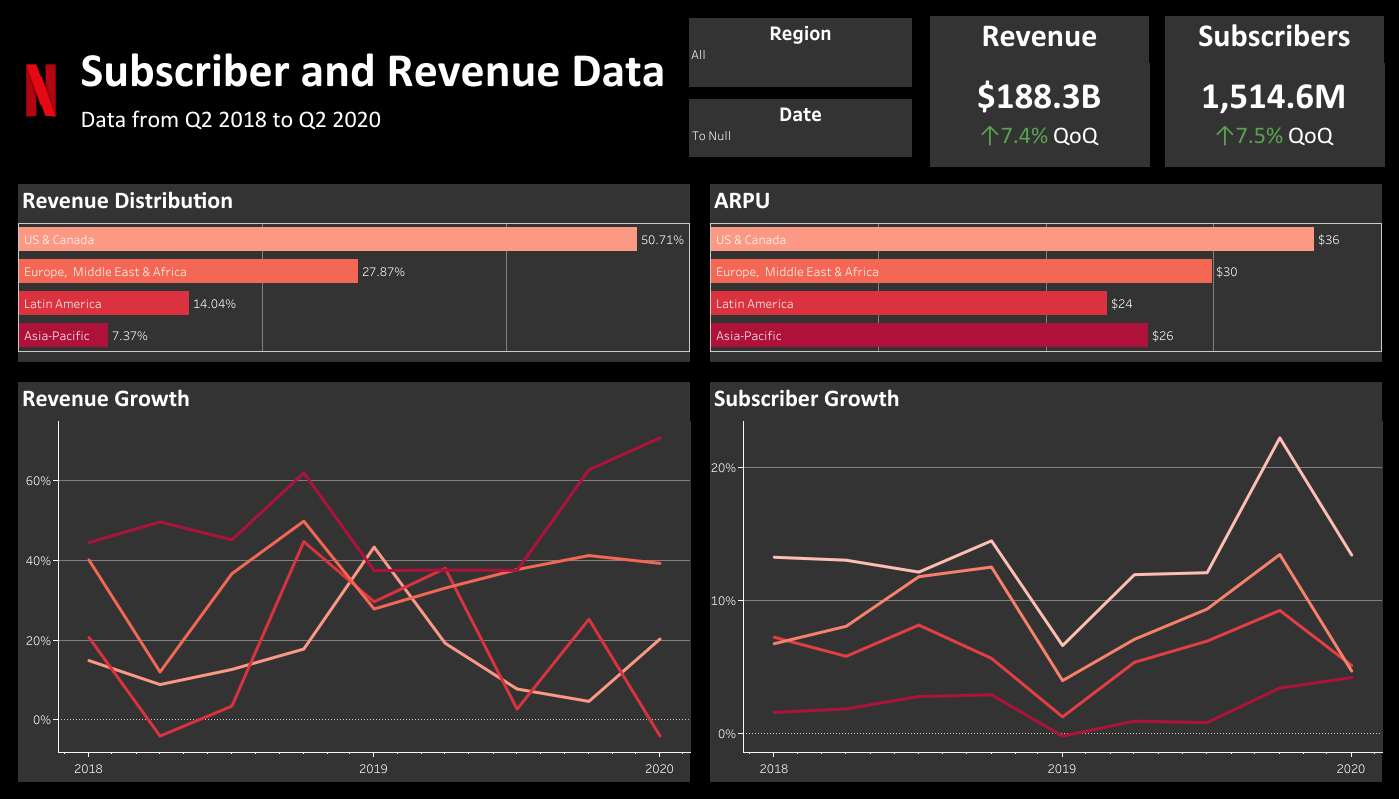

The dashboard page shown, as its layout file describes it:
{"tool":"tableau","page":{"name":"Dashboard","canvas":[1400,800],"ordinal":0},"visuals":[{"type":"image","param":"Image/Netflix_Symbol_RGB.png","box":[8,8,66,166]},{"type":"text","box":[74,8,605,166]},{"type":"worksheet","title":"Total Revenue","mark":"Automatic","box":[922,8,235,166]},{"type":"worksheet","title":"Total Subs","mark":"Automatic","box":[1157,8,235,166]},{"type":"filter","title":"Rev Growth","param":"[federated.0xbg4ab1h2xs0k153pco21ijc6aw].[none:region:nk]","box":[683,12,235,81]},{"type":"filter","title":"Rev Growth","param":"[federated.0xbg4ab1h2xs0k153pco21ijc6aw].[tqr:Current_Quarter:qk]","box":[683,93,235,70]},{"type":"worksheet","title":"Revenue Totals","mark":"Bar","rows":["region"],"cols":["Current_Revenue","Calculation_15270052281585691"],"box":[8,174,692,198]},{"type":"worksheet","title":"ARPU per Region","mark":"Bar","rows":["region"],"cols":["Calculation_14777470353051650","Calculation_15270052281585691"],"box":[700,174,692,198]},{"type":"worksheet","title":"Rev Growth","mark":"Automatic","rows":["Revenue_Growth"],"cols":["Current_Quarter"],"box":[8,372,692,420]},{"type":"worksheet","title":"Sub Growth","mark":"Automatic","rows":["Sub_Growth"],"cols":["Current_Quarter (SubGrowth.csv)"],"box":[700,372,692,420]}]}

Visuals, with their boxes in screenshot pixels (x1, y1, x2, y2), scaled from the page's 1400x800 canvas onto the 1399x799 screenshot:
image: <box>8,8,74,174</box>
text: <box>74,8,679,174</box>
"Total Revenue" worksheet: <box>921,8,1156,174</box>
"Total Subs" worksheet: <box>1156,8,1391,174</box>
"Rev Growth" filter: <box>683,12,917,93</box>
"Rev Growth" filter: <box>683,93,917,163</box>
"Revenue Totals" worksheet (Bar marks): <box>8,174,700,372</box>
"ARPU per Region" worksheet (Bar marks): <box>700,174,1391,372</box>
"Rev Growth" worksheet: <box>8,372,700,791</box>
"Sub Growth" worksheet: <box>700,372,1391,791</box>
